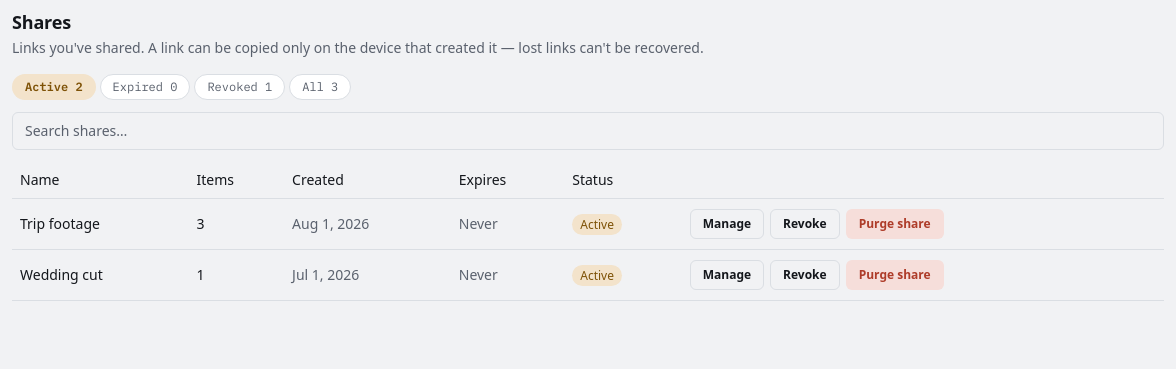
Test case: SharesSection › renders rows with title, item count, and status from a single mount GET
The image size is (1176, 369).
Check: the text "Trip footage" is shown, box left=12, top=198, right=188, bottom=249
Check: the text "3" is shown, box left=188, top=198, right=284, bottom=249
# All reveals past shares, preserving the server's newest-first order.
Click the button "All 3" at (320, 87), box left=289, top=74, right=351, bottom=100
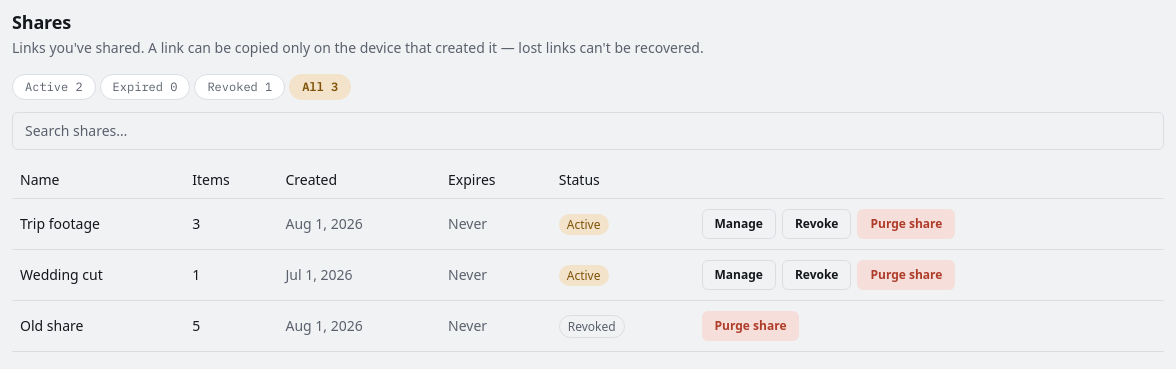
Check: the text "Old share" is shown, box left=12, top=300, right=184, bottom=351
Check: the text "Revoked" is shown, box left=559, top=315, right=625, bottom=338
